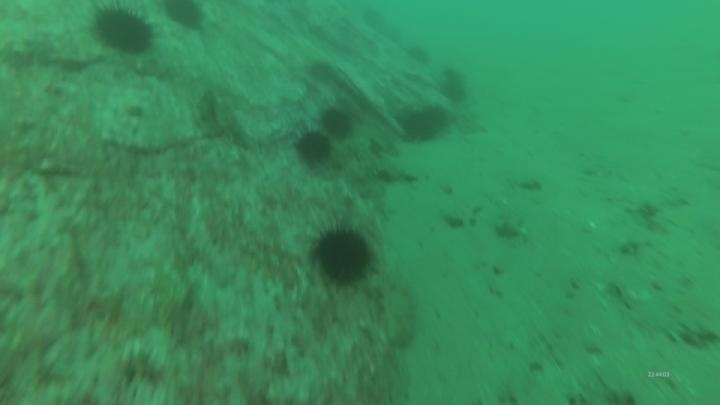echinus: (308, 220, 378, 289), (89, 3, 158, 58), (397, 100, 443, 145), (292, 128, 334, 167), (160, 1, 208, 33), (318, 105, 356, 141), (438, 82, 466, 105), (437, 62, 465, 85), (412, 44, 430, 63), (382, 21, 400, 40), (363, 9, 381, 28)
holothurian: (375, 273, 419, 352)
